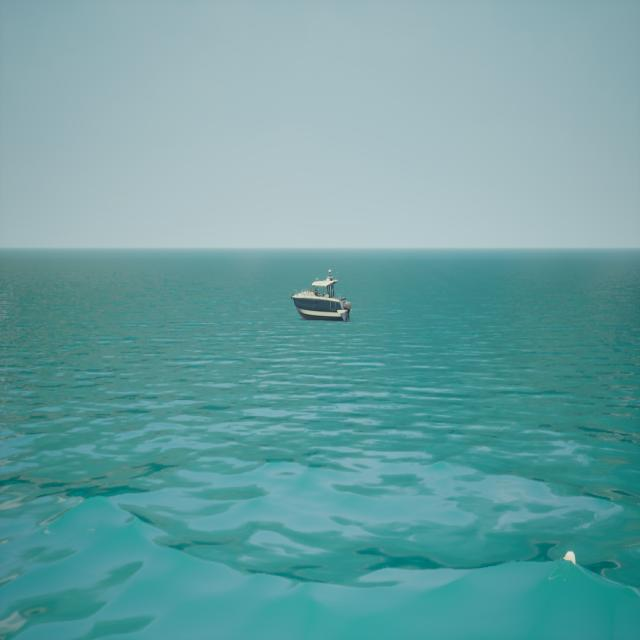ship: (290, 267, 353, 320)
